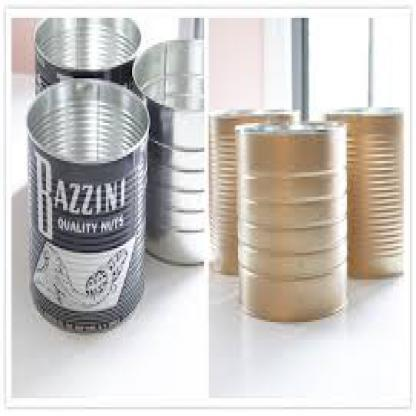METAL: (24, 76, 149, 333), (233, 119, 347, 322), (132, 36, 201, 266), (208, 110, 300, 275), (322, 108, 402, 278), (32, 18, 138, 98)
